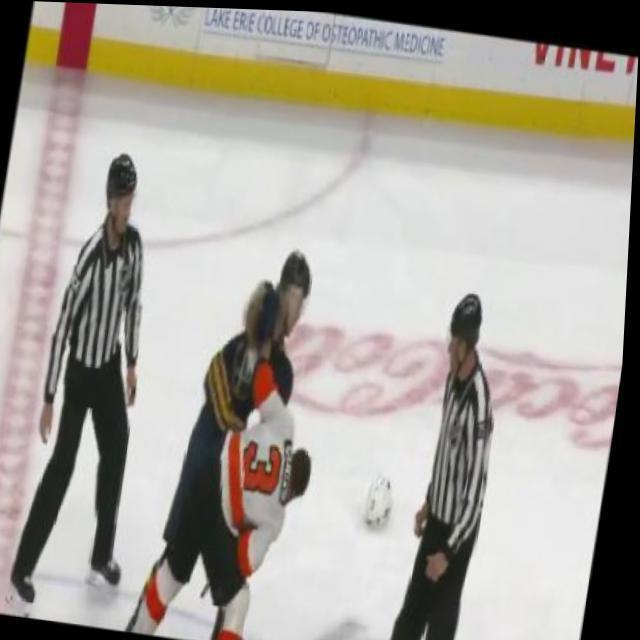fight: (151, 228, 349, 640)
